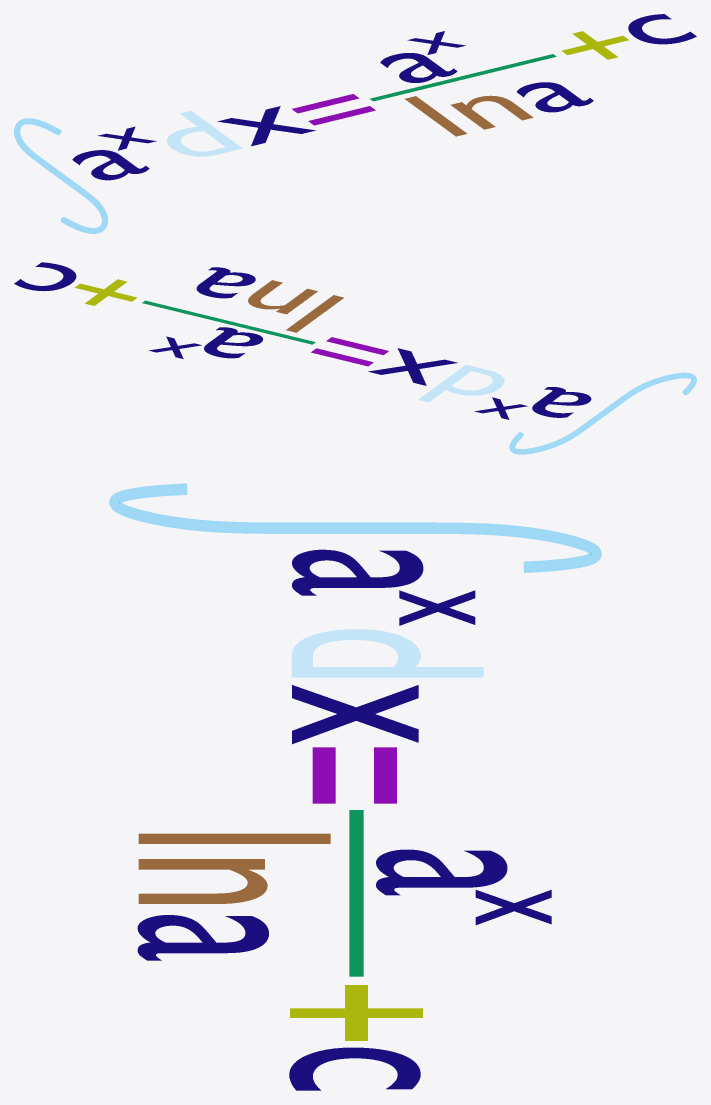
The model's file is intalax.glb.
The picture shows the model from 3 angles, top to bottom: view 1: azimuth 30°, elevation 25°; view 2: azimuth 150°, elevation 25°; view 3: azimuth 270°, elevation 25°; orthographic projection. The views are drawn at different scales.
Parts seen in each view (by area): view 1: int din a la x dx; view 2: int din a la x dx; view 3: int din a la x dx.
Part boxes in pixels (x1,y1,x2,y2): int din a la x dx: (14,14,696,233); int din a la x dx: (14,262,696,454); int din a la x dx: (109,483,601,1090).
Bounding box in the file's own units: 5.08 × 0.0401 × 1.75.
